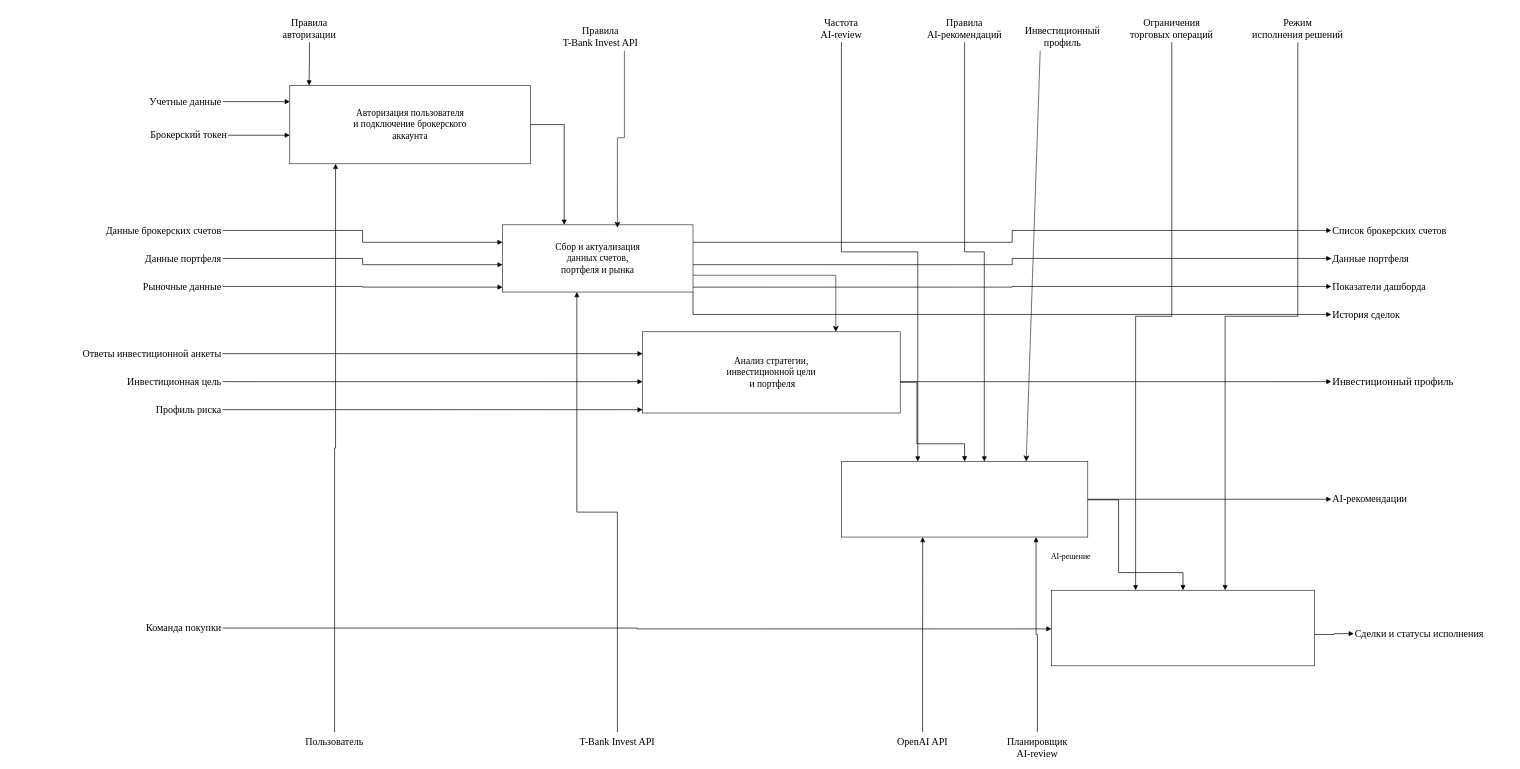
This 1520x769 diagram has some shape labels left out. Each missing label, with the centre of its shape:
Исполнение и мониторинг инвестиционных решений: point 1183,628
Формирование AI-рекомендаций: point 964,499
